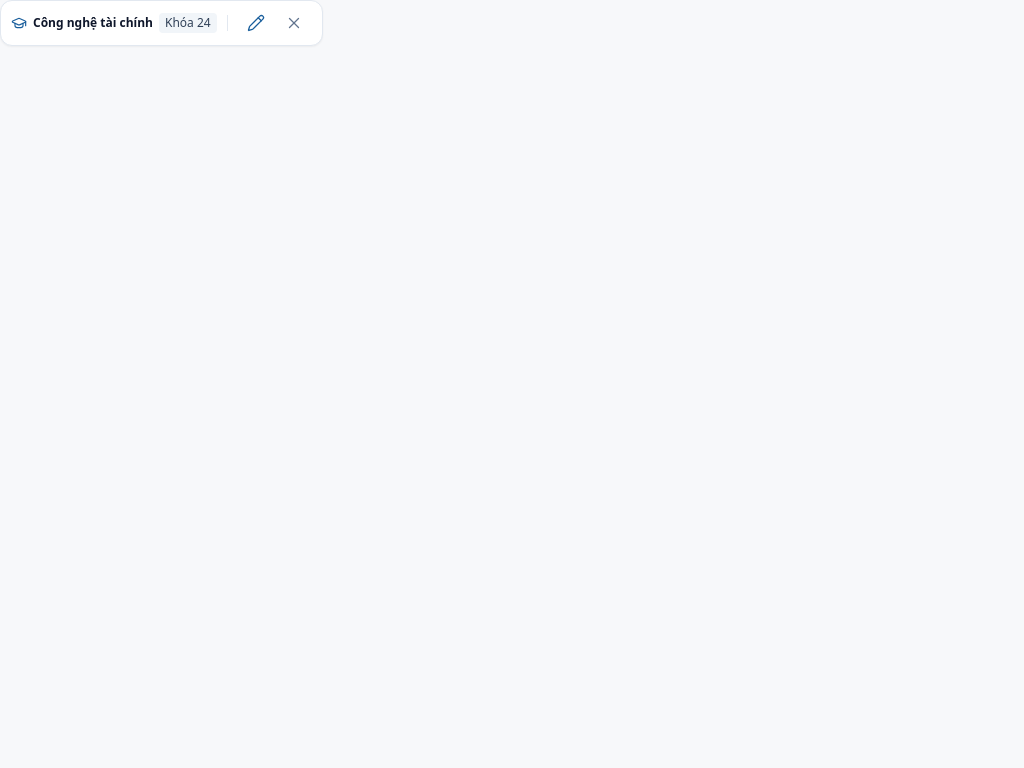
Brief W16: ProgramFilterBar component tests › 15. Brief W26 (compact/Header mode): Có CTĐT -> hiện thẻ gọn (icon mũ, tên ngành, chip khóa/hệ); bấm thẻ mở dialog, bấm ✕ bỏ lọc
Later steps or results of the test are not shown.
Expected: the text "Công nghệ tài chính" is shown, [33, 15, 153, 31]
Expected: the text "Khóa 24" is shown, [165, 14, 211, 31]
What coordinates should you click on to do the following:
click the button with aria-label "Chương trình đào tạo ngành Công nghệ tài chính khóa 24"
I would click on:
 (114, 23)
Its box is [11, 13, 217, 33].
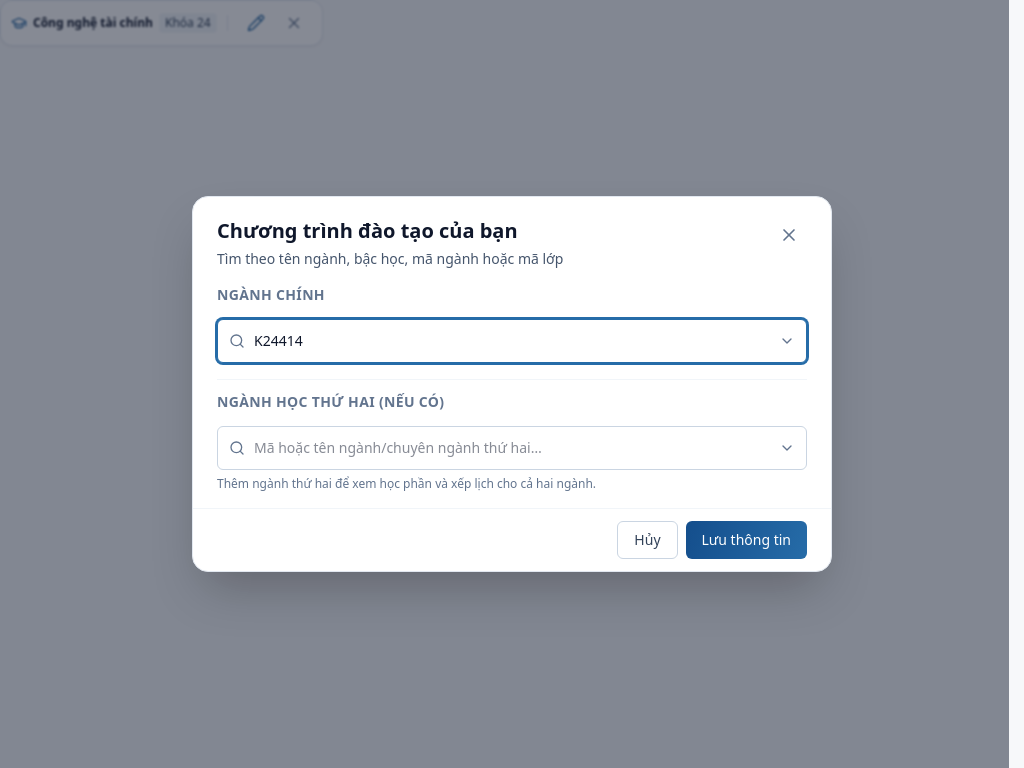
Now the dialog is shown, box [192, 196, 832, 572]
